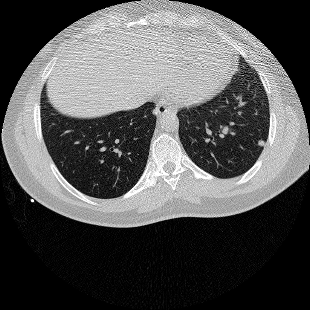nodule: (258, 140, 266, 148)
